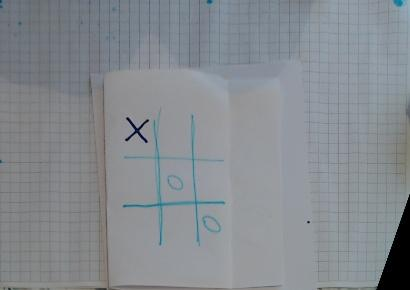O: (200, 214, 224, 235), (165, 170, 185, 194)
X: (123, 115, 155, 146)
grid: (117, 107, 237, 252)
